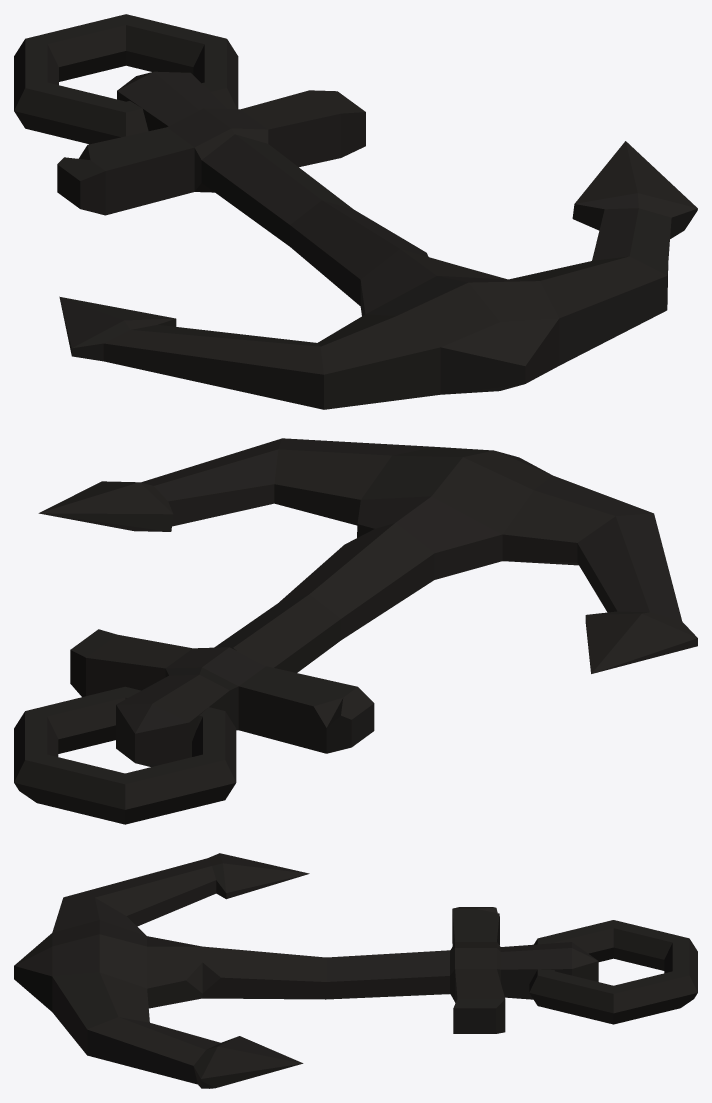
The model's file is Anchor.fbx.
3 views of the same model, one above another, from view 1: azimuth 30°, elevation 25°; view 2: azimuth 150°, elevation 25°; view 3: azimuth 270°, elevation 25° (orthographic). The views are drawn at different scales.
Parts seen in each view (by area): view 1: Anchor; view 2: Anchor; view 3: Anchor.
Part boxes in pixels (x1,y1,x2,y2): Anchor: [14, 14, 697, 409]; Anchor: [14, 438, 697, 824]; Anchor: [14, 853, 697, 1088].
Size of the model in its own units: 103 by 16.32 by 132.
